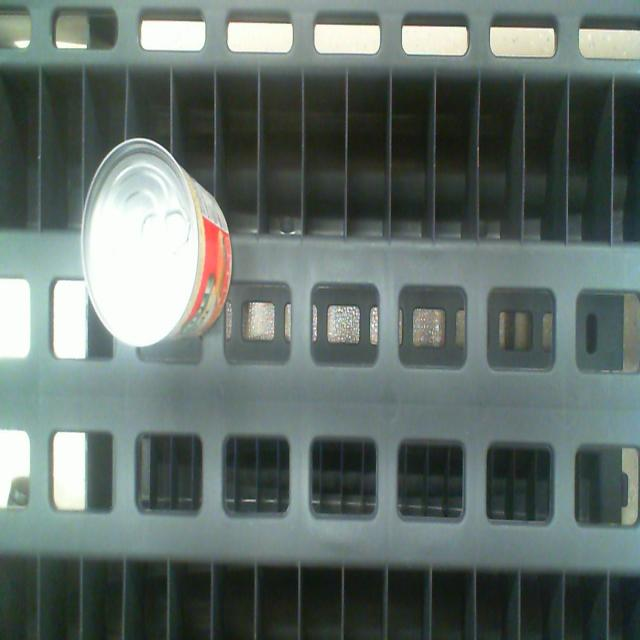can: (80, 136, 200, 348)
